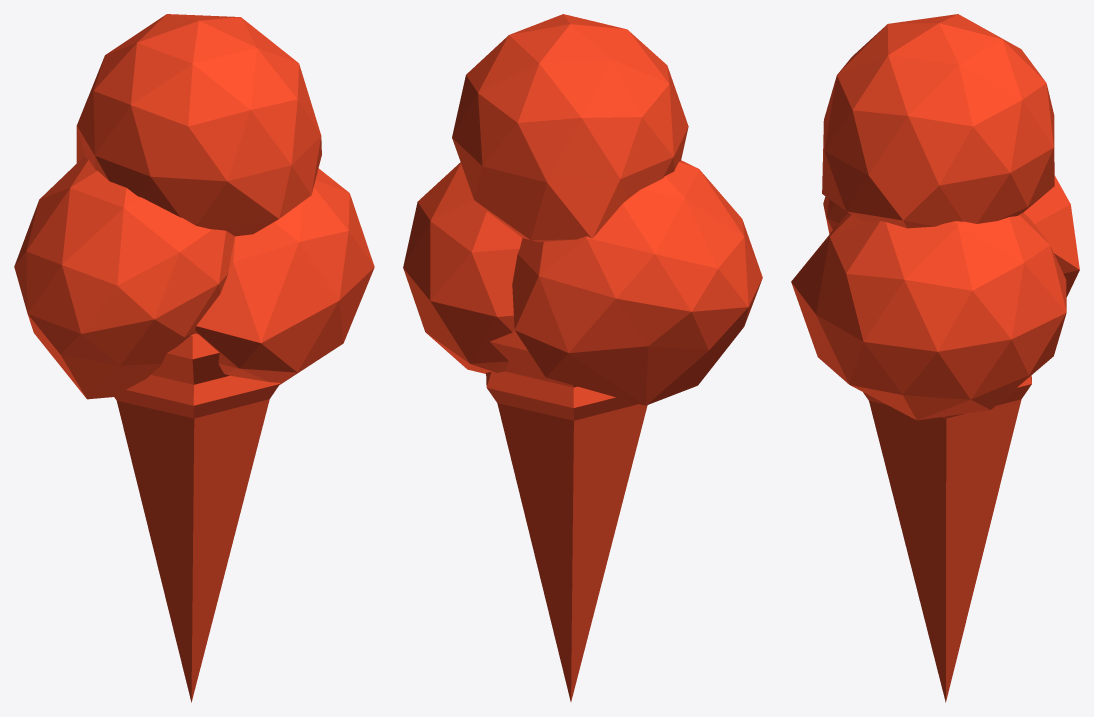
Rendered from SM_Icecream_City.fbx.
3 views of the same model, side by side, from view 1: azimuth 30°, elevation 25°; view 2: azimuth 150°, elevation 25°; view 3: azimuth 270°, elevation 25° (orthographic).
Visible parts, largest first — view 1: SM_Icecream_City; view 2: SM_Icecream_City; view 3: SM_Icecream_City.
Part boxes in pixels (x1,y1,x2,y2): SM_Icecream_City: [14, 14, 374, 702]; SM_Icecream_City: [403, 14, 762, 701]; SM_Icecream_City: [791, 14, 1079, 702].
Bounding box in the file's own units: 0.1416 × 0.2767 × 0.1062.
